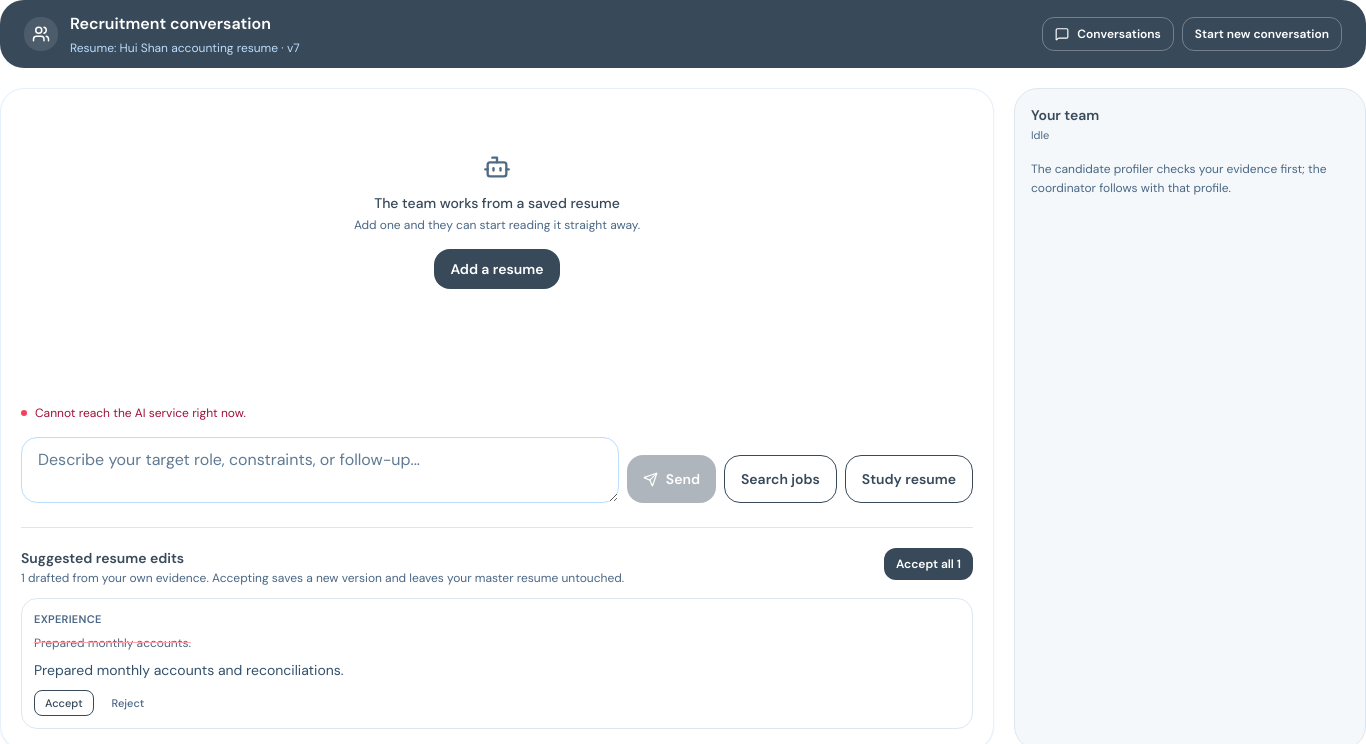
RecruitmentTeamPanel › keeps an accepted derived resume selected across reload
Step 1. Click the button "Accept all 1" → (928, 564), box [884,548,973,580]
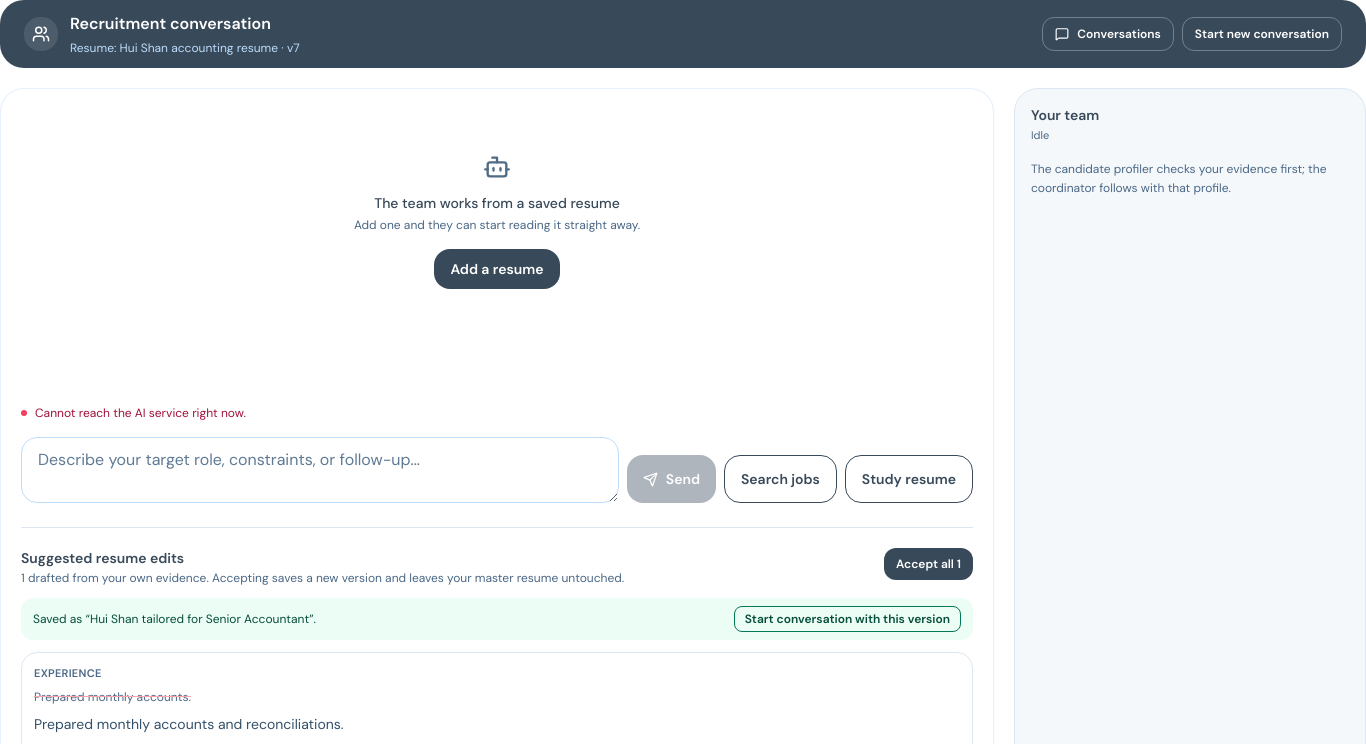
Step 2. Click the button "Start conversation with this version" → (847, 619), box [734,606,961,632]
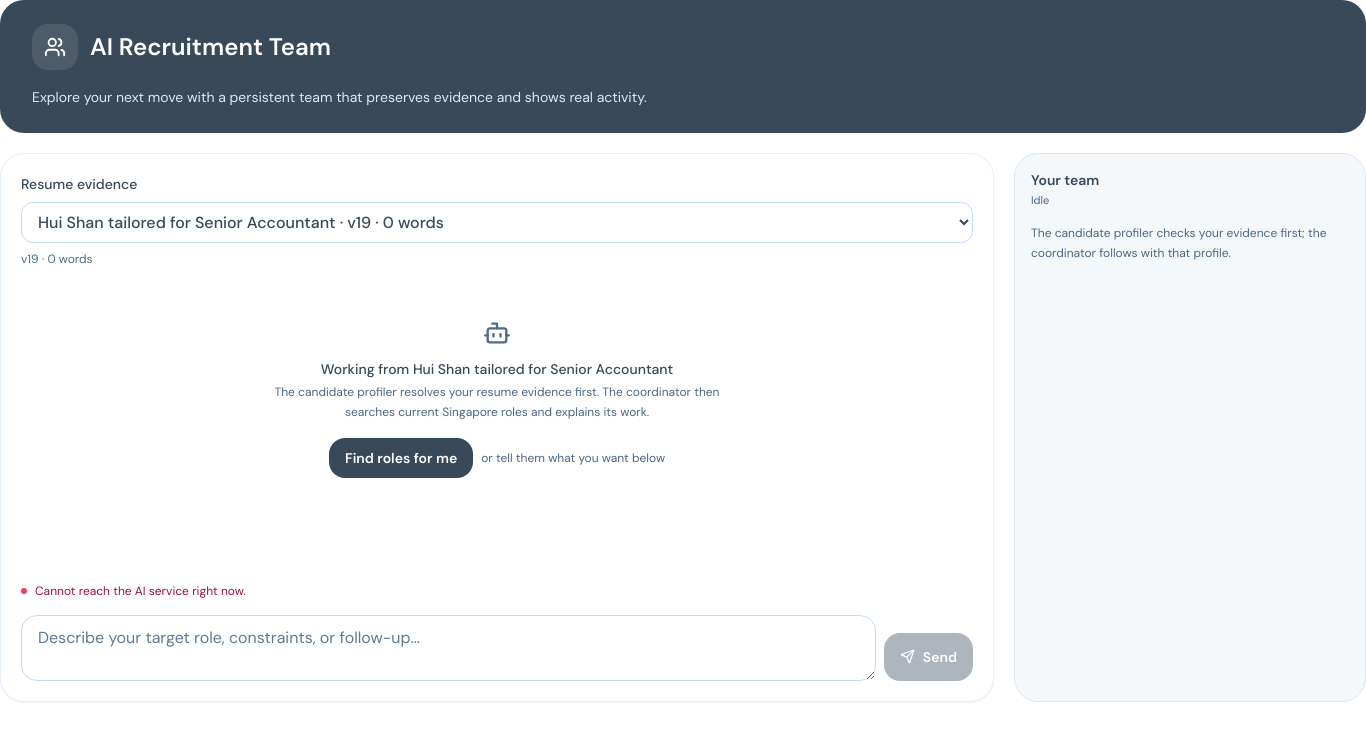
Expected: the text "Hui Shan tailored for Senior Accountant" is shown, [413,360,673,378]
Expected: the dropdown labelled "Resume evidence v19 · 0 words" shows "Hui Shan tailored for Senior Accountant · v19 · 0 words", [21,202,973,243]
